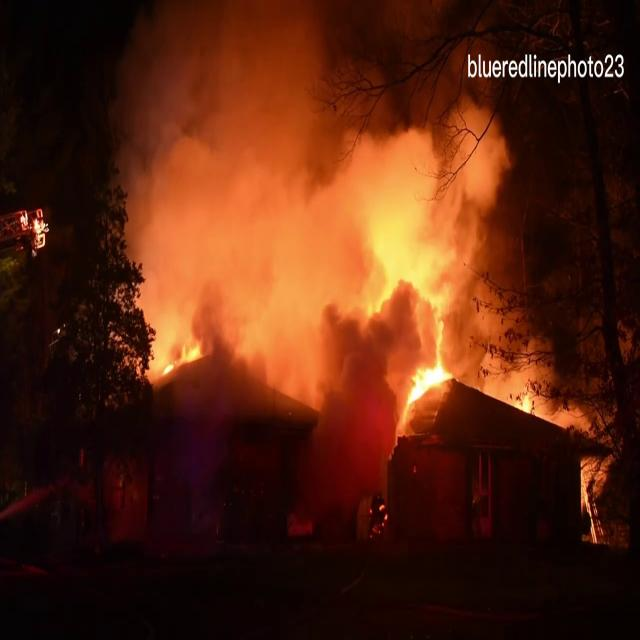Fire: (114, 22, 552, 424), (16, 207, 50, 249)
